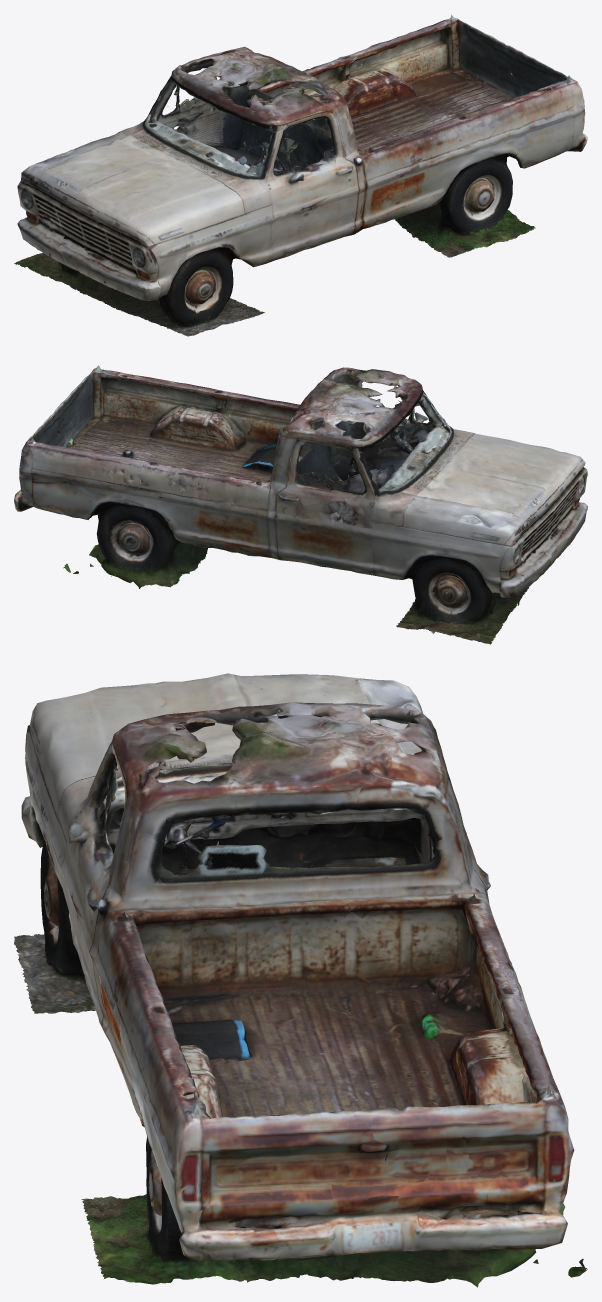
Rendered from truck.obj.
3 renders of one model, top to bottom at view 1: azimuth 30°, elevation 25°; view 2: azimuth 150°, elevation 25°; view 3: azimuth 270°, elevation 25°, orthographic. The views are drawn at different scales.
Size of the model in its own units: 42.23 by 15.42 by 21.69.
1 material, 1 textured.
